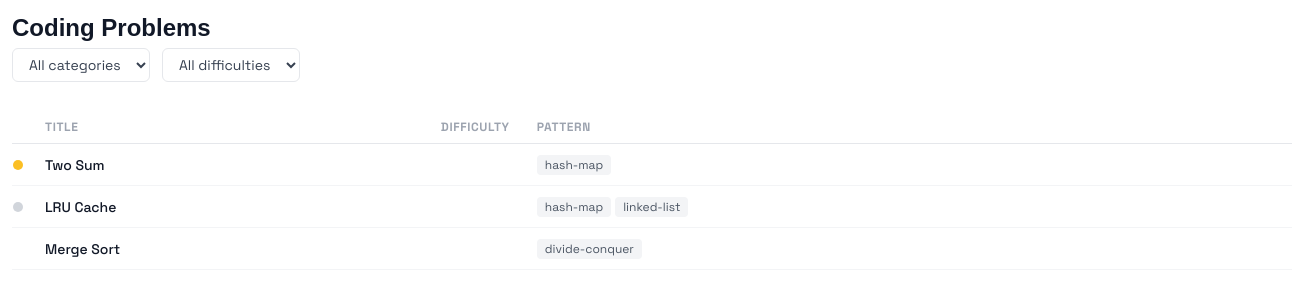
Test: Problems Index Page › shows "no match" when filters exclude everything
Select "Arrays" in the 1st dropdown: (81, 65) [12, 48, 150, 82]
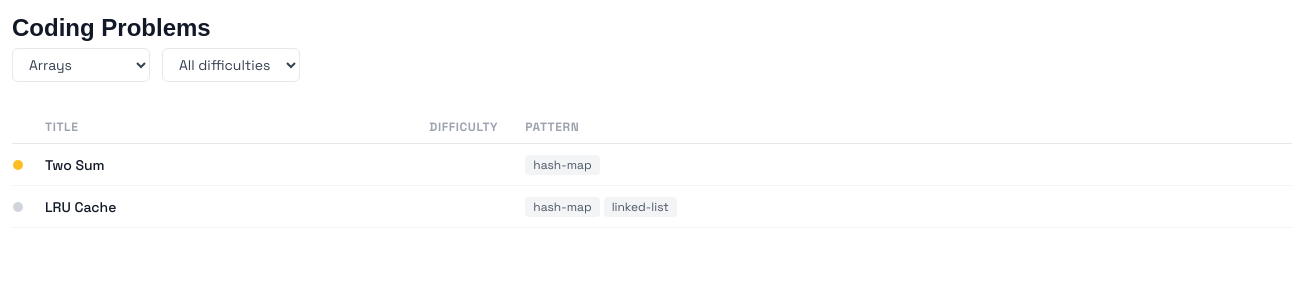
Select "Medium" in the 2nd dropdown: (231, 65) [162, 48, 300, 82]
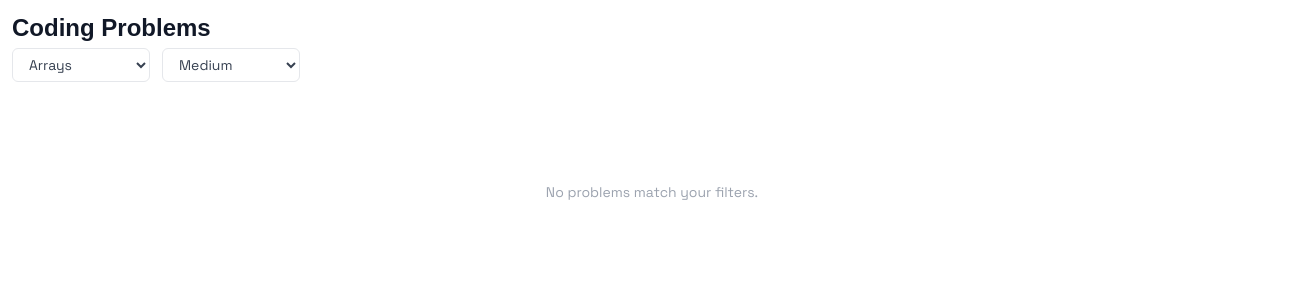
Check: the text "No problems match your filters" is shown, box [546, 183, 758, 201]
